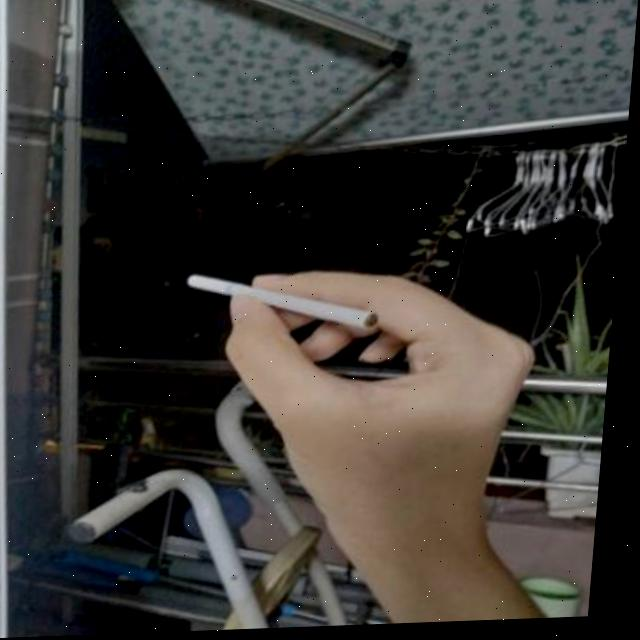cigarette: (185, 269, 393, 343)
